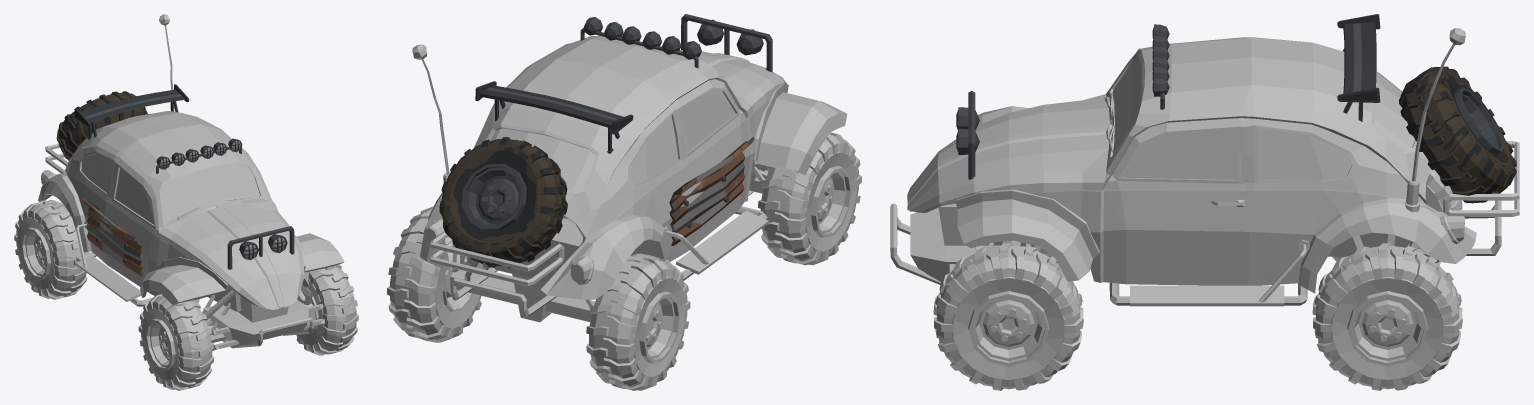
The model's file is car8.fbx.
3 renders of one model, left to right at view 1: azimuth 30°, elevation 25°; view 2: azimuth 150°, elevation 25°; view 3: azimuth 270°, elevation 25°, orthographic. The views are drawn at different scales.
Parts seen in each view (by area): view 1: SM_Veh_Buggy_01, SM_Veh_Buggy_Wheel_fr, SM_Veh_Buggy_Wheel_rr, SM_Veh_Buggy_01_Glass, SM_Veh_Buggy_Wheel_fl, SM_Veh_Attach_Plating_37.004, SM_Veh_Attach_Wheel_01.001, SM_Veh_Attach_Spoiler_02.001, SM_Veh_Attach_Lights_03.001, SM_Veh_Attach_Lights_04.002, SM_Veh_Buggy_Armour_01; view 2: SM_Veh_Buggy_01, SM_Veh_Attach_Wheel_01.001, SM_Veh_Buggy_Wheel_rr, SM_Veh_Buggy_Wheel_fr, SM_Veh_Buggy_Wheel_rl, SM_Veh_Buggy_01_Glass, SM_Veh_Attach_Plating_37.004, SM_Veh_Attach_Spoiler_02.001, SM_Veh_Attach_Lights_03.001, SM_Veh_Attach_Lights_04.002, SM_Veh_Buggy_Armour_01; view 3: SM_Veh_Buggy_01, SM_Veh_Buggy_Wheel_rl, SM_Veh_Buggy_Wheel_fl, SM_Veh_Buggy_01_Glass, SM_Veh_Attach_Wheel_01.001, SM_Veh_Attach_Spoiler_02.001, SM_Veh_Buggy_Armour_01, SM_Veh_Attach_Lights_03.001, SM_Veh_Attach_Lights_04.002, SM_Veh_Buggy_Wheel_rr.
Boxes of the visible parts, <box> form: SM_Veh_Buggy_01: <box>38,111,344,350</box>; SM_Veh_Buggy_Wheel_fr: <box>138,294,214,390</box>; SM_Veh_Buggy_Wheel_rr: <box>14,199,89,299</box>; SM_Veh_Buggy_01_Glass: <box>81,153,259,224</box>; SM_Veh_Buggy_Wheel_fl: <box>296,264,358,355</box>; SM_Veh_Attach_Plating_37.004: <box>81,198,142,275</box>; SM_Veh_Attach_Wheel_01.001: <box>56,91,147,160</box>; SM_Veh_Attach_Spoiler_02.001: <box>74,84,189,139</box>; SM_Veh_Attach_Lights_03.001: <box>227,226,294,269</box>; SM_Veh_Attach_Lights_04.002: <box>156,138,242,173</box>; SM_Veh_Buggy_Armour_01: <box>159,14,314,348</box>; SM_Veh_Buggy_01: <box>420,35,847,322</box>; SM_Veh_Attach_Wheel_01.001: <box>439,137,567,268</box>; SM_Veh_Buggy_Wheel_rr: <box>586,253,690,390</box>; SM_Veh_Buggy_Wheel_fr: <box>757,132,861,265</box>; SM_Veh_Buggy_Wheel_rl: <box>387,206,489,342</box>; SM_Veh_Buggy_01_Glass: <box>490,90,735,190</box>; SM_Veh_Attach_Plating_37.004: <box>669,137,754,245</box>; SM_Veh_Attach_Spoiler_02.001: <box>475,81,633,153</box>; SM_Veh_Attach_Lights_03.001: <box>681,14,772,72</box>; SM_Veh_Attach_Lights_04.002: <box>580,17,701,68</box>; SM_Veh_Buggy_Armour_01: <box>412,44,753,195</box>; SM_Veh_Buggy_01: <box>907,37,1519,306</box>; SM_Veh_Buggy_Wheel_rl: <box>1312,243,1462,390</box>; SM_Veh_Buggy_Wheel_fl: <box>933,243,1083,390</box>; SM_Veh_Buggy_01_Glass: <box>1112,56,1414,179</box>; SM_Veh_Attach_Wheel_01.001: <box>1399,66,1516,203</box>; SM_Veh_Attach_Spoiler_02.001: <box>1337,14,1380,121</box>; SM_Veh_Buggy_Armour_01: <box>890,28,1465,284</box>; SM_Veh_Attach_Lights_03.001: <box>956,91,979,179</box>; SM_Veh_Attach_Lights_04.002: <box>1152,24,1169,109</box>; SM_Veh_Buggy_Wheel_rr: <box>1332,169,1462,265</box>.
Size of the model in its own units: 217 by 265 by 432.
